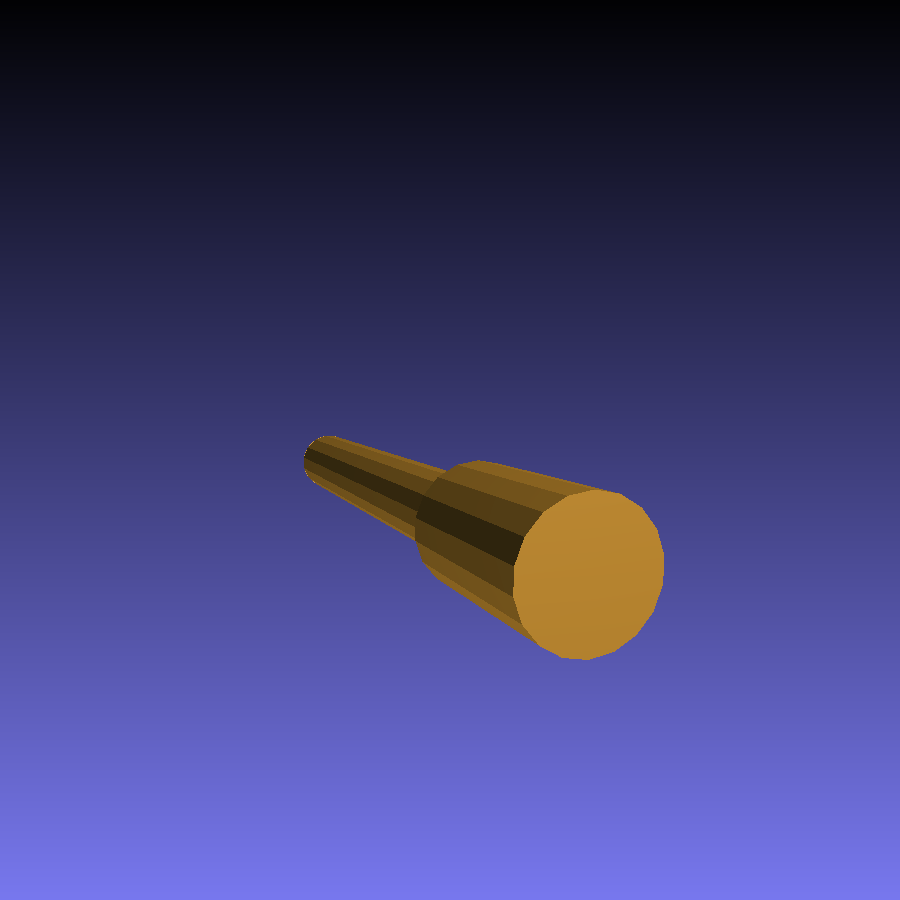cargo_g: (303, 434, 664, 658)
